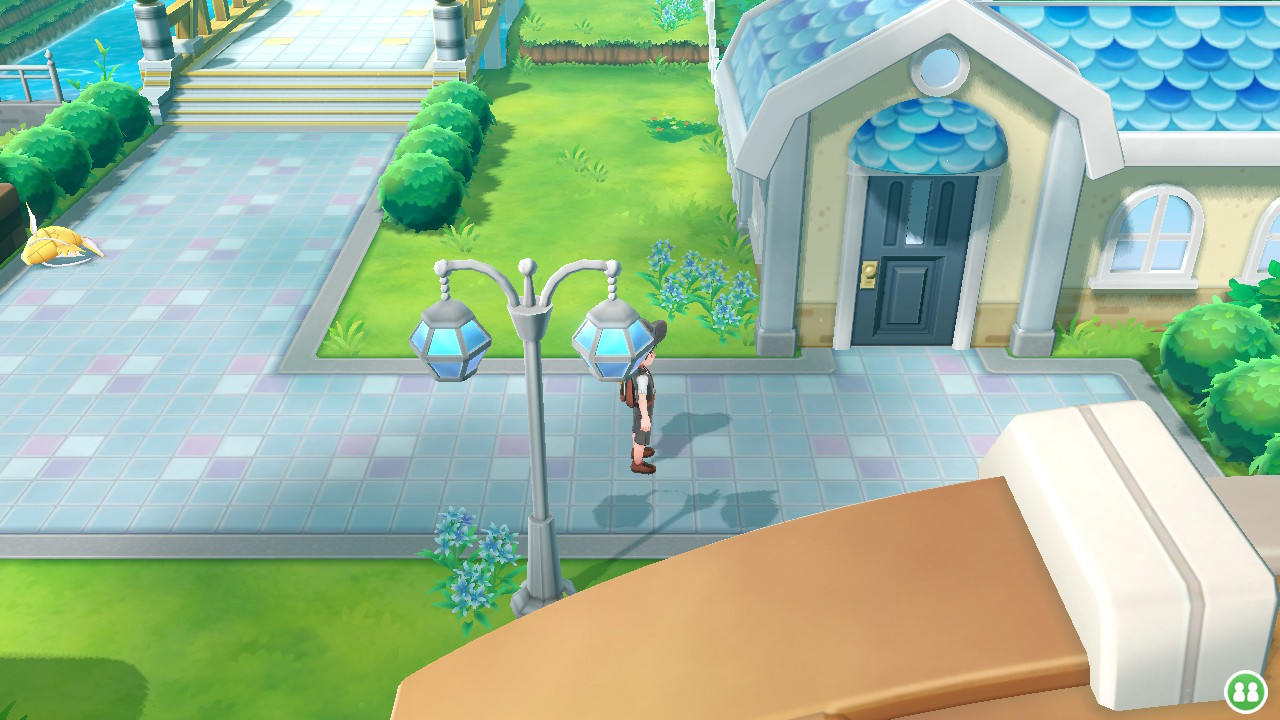Golden: (18, 212, 107, 271)
